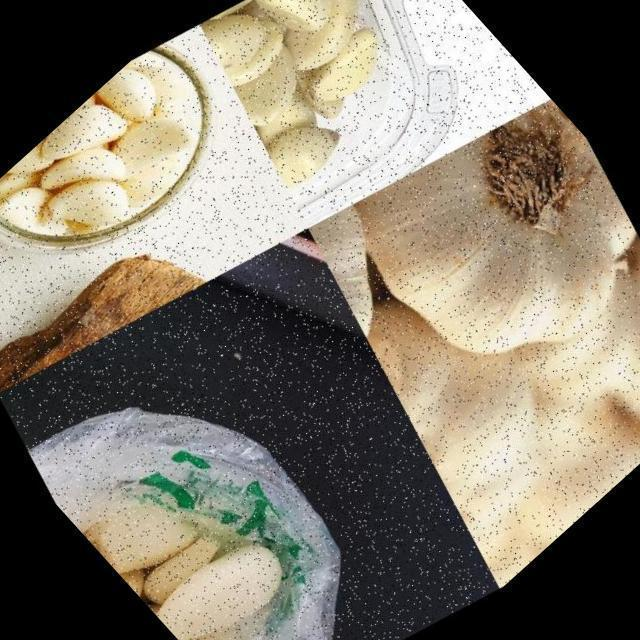garlic: (299, 54, 640, 449), (308, 239, 636, 574), (0, 36, 249, 311), (165, 0, 456, 217), (76, 424, 349, 640)
